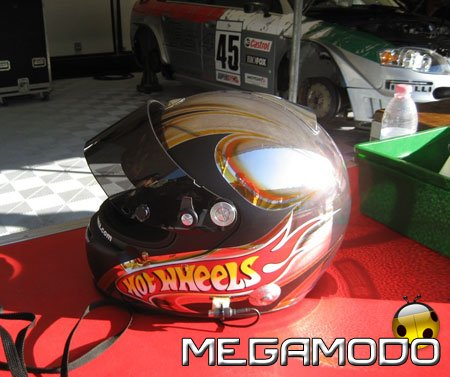helmet: (95, 96, 367, 298)
